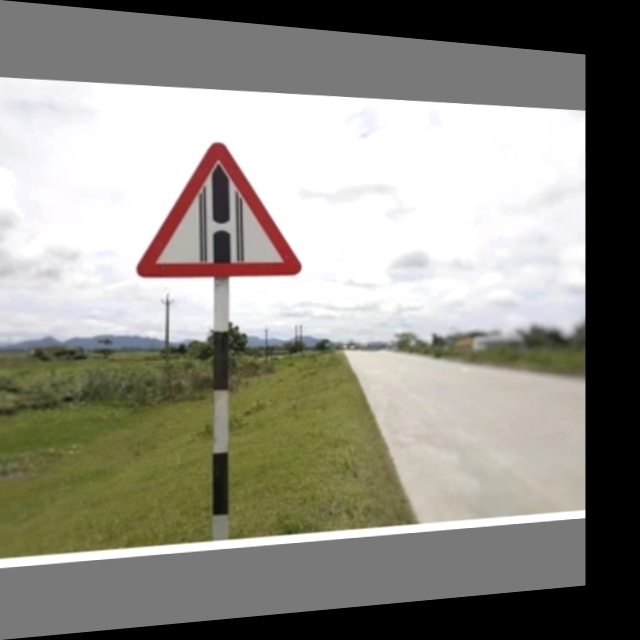Gap_in_Median: (133, 132, 307, 282)
